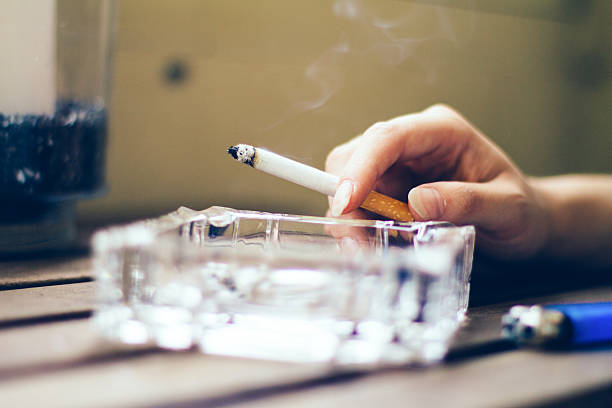cigarette: (228, 142, 416, 226)
